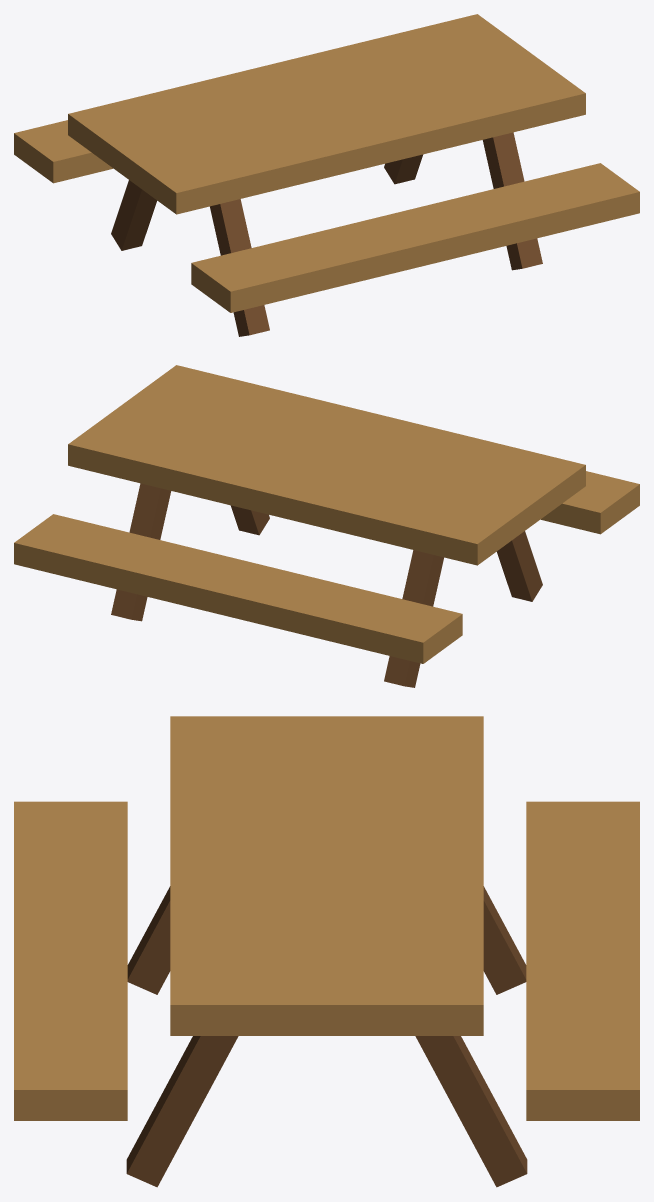
Rendered from PicnicTable.obj.
3 renders of one model, top to bottom at view 1: azimuth 30°, elevation 25°; view 2: azimuth 150°, elevation 25°; view 3: azimuth 270°, elevation 25°, orthographic. The views are drawn at different scales.
Visible parts, largest first — view 1: PicnicTable; view 2: PicnicTable; view 3: PicnicTable.
Boxes of the visible parts, box(x1,y1,x2,y2) form: PicnicTable: box(14, 14, 639, 336); PicnicTable: box(14, 365, 639, 687); PicnicTable: box(14, 716, 639, 1187).
Bounding box in the file's own units: 2.4 × 0.8662 × 2.2.
Materials: 1 (1 with a texture image).
